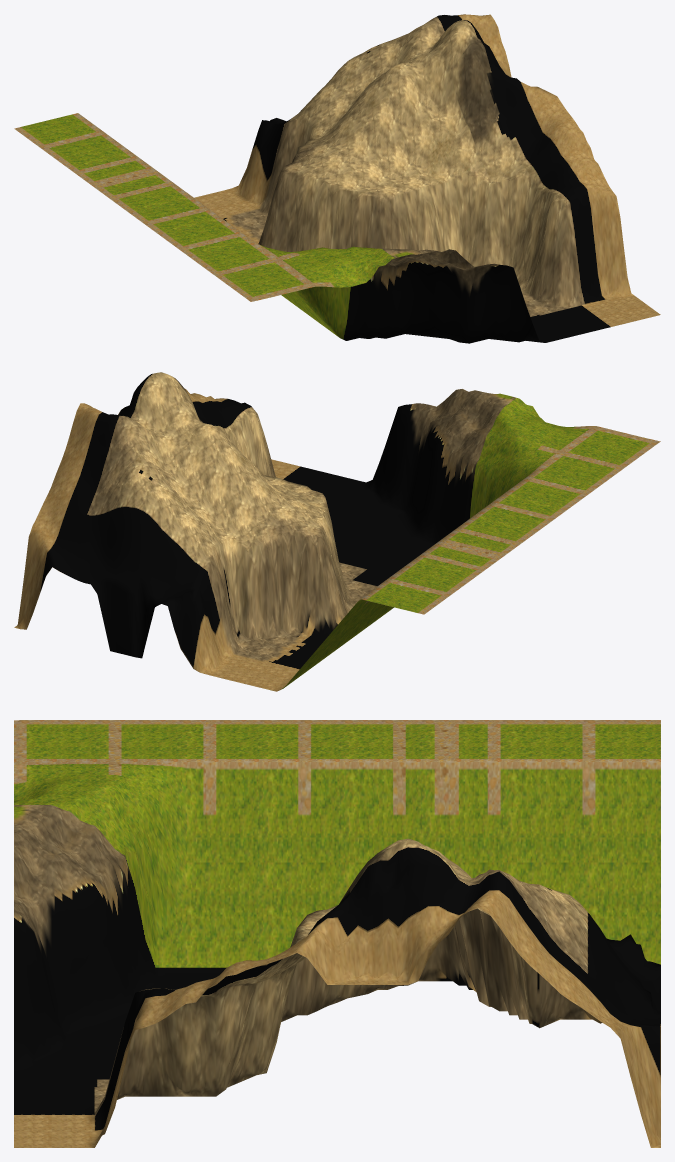
The model's file is terrain.glb.
The picture shows the model from 3 angles, top to bottom: view 1: azimuth 30°, elevation 25°; view 2: azimuth 150°, elevation 25°; view 3: azimuth 270°, elevation 25°; orthographic projection. The views are drawn at different scales.
Parts seen in each view (by area): view 1: terrain_5_4; view 2: terrain_5_4; view 3: terrain_5_4.
Boxes of the visible parts, x1,y1,x2,y2 form: terrain_5_4: [14, 14, 660, 343]; terrain_5_4: [14, 372, 660, 691]; terrain_5_4: [14, 720, 660, 1147].
Size of the model in its own units: 512 by 238 by 512.
1 material, 1 textured.
